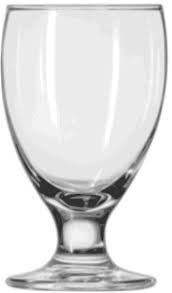glass: (1, 2, 170, 293)
